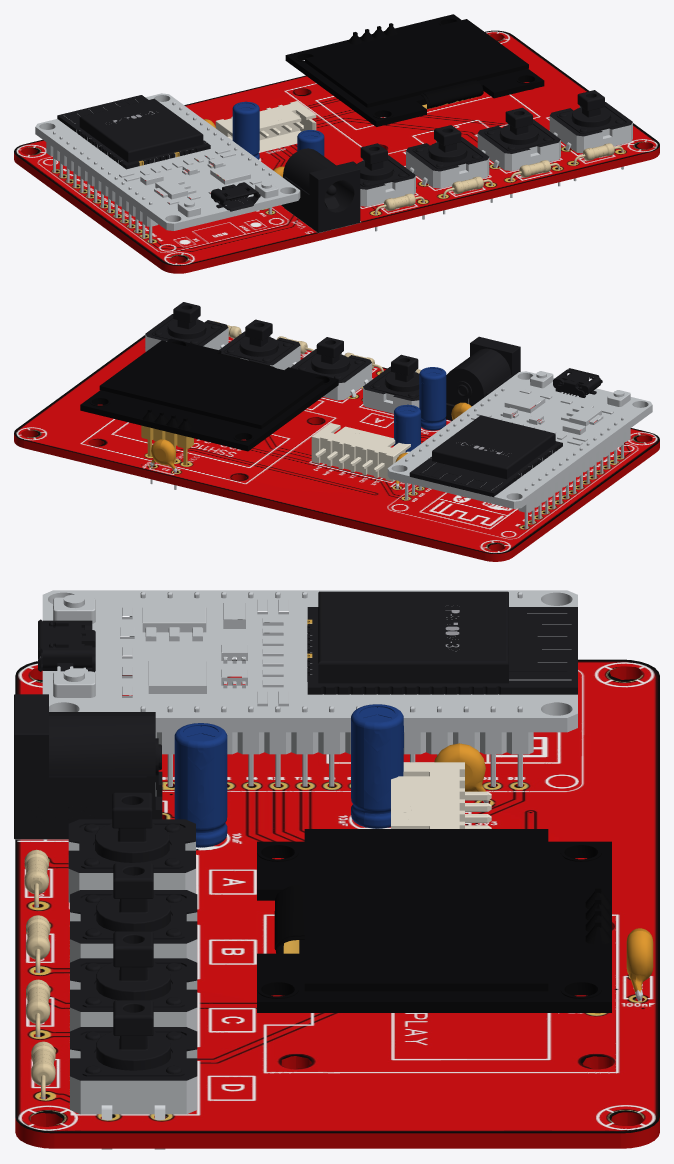
File: board.glb
The picture shows the model from 3 angles, top to bottom: view 1: azimuth 30°, elevation 25°; view 2: azimuth 150°, elevation 25°; view 3: azimuth 270°, elevation 25°; orthographic projection. The views are drawn at different scales.
Visible parts, largest first — view 1: Board-mesh, U1-mesh (×3), U2-mesh (×4), DC1-mesh, KEY2-mesh, KEY3-mesh, KEY4-mesh, KEY1-mesh, CN1-mesh, C4-mesh, C1-mesh, R3-mesh (+3 smaller); view 2: Board-mesh, U1-mesh (×3), U2-mesh (×3), CN1-mesh, DC1-mesh, KEY2-mesh, KEY1-mesh, KEY4-mesh, KEY3-mesh, C1-mesh, C4-mesh, C2-mesh; view 3: Board-mesh, U1-mesh (×3), U2-mesh (×4), DC1-mesh, KEY4-mesh, KEY1-mesh, KEY3-mesh, KEY2-mesh, C1-mesh, C4-mesh, CN1-mesh, C2-mesh (+5 smaller).
Part boxes in pixels (bbox=[...]): Board-mesh: bbox=[14, 30, 659, 273]; U1-mesh (×3): bbox=[35, 93, 300, 242]; U2-mesh (×4): bbox=[285, 14, 544, 126]; DC1-mesh: bbox=[281, 148, 360, 233]; KEY2-mesh: bbox=[406, 125, 489, 188]; KEY3-mesh: bbox=[477, 107, 560, 170]; KEY4-mesh: bbox=[549, 90, 632, 153]; KEY1-mesh: bbox=[336, 143, 415, 206]; CN1-mesh: bbox=[215, 101, 316, 152]; C4-mesh: bbox=[232, 101, 259, 159]; C1-mesh: bbox=[297, 130, 324, 156]; R3-mesh: bbox=[510, 160, 560, 197]; Board-mesh: bbox=[14, 335, 659, 561]; U1-mesh (×3): bbox=[387, 368, 652, 528]; U2-mesh (×3): bbox=[80, 338, 338, 465]; CN1-mesh: bbox=[311, 423, 410, 481]; DC1-mesh: bbox=[445, 336, 520, 420]; KEY2-mesh: bbox=[291, 337, 371, 400]; KEY1-mesh: bbox=[363, 354, 419, 413]; KEY4-mesh: bbox=[145, 302, 228, 351]; KEY3-mesh: bbox=[219, 319, 300, 369]; C1-mesh: bbox=[419, 367, 446, 430]; C4-mesh: bbox=[394, 404, 420, 452]; C2-mesh: bbox=[150, 439, 176, 489]; Board-mesh: bbox=[15, 659, 659, 1148]; U1-mesh (×3): bbox=[38, 590, 577, 786]; U2-mesh (×4): bbox=[257, 829, 611, 1013]; DC1-mesh: bbox=[14, 694, 162, 839]; KEY4-mesh: bbox=[70, 1000, 197, 1149]; KEY1-mesh: bbox=[68, 792, 195, 902]; KEY3-mesh: bbox=[70, 931, 197, 1031]; KEY2-mesh: bbox=[70, 863, 197, 962]; C1-mesh: bbox=[174, 723, 227, 847]; C4-mesh: bbox=[351, 704, 403, 828]; CN1-mesh: bbox=[391, 762, 491, 828]; C2-mesh: bbox=[626, 928, 653, 1001].
Bounding box in the file's own units: 0.1058 × 0.016 × 0.0609.
Materials: 13 (2 with a texture image).
